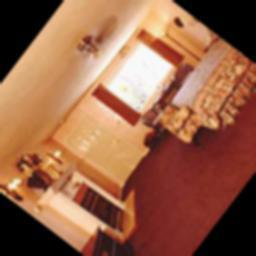Puerta: (65, 111, 146, 185)
